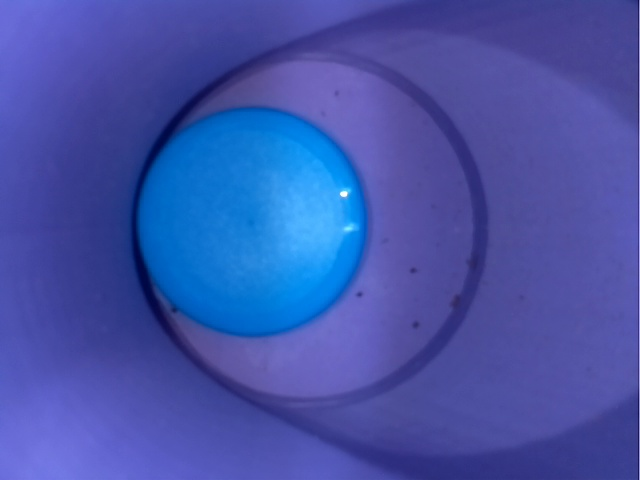bouchon: (111, 101, 400, 350)
